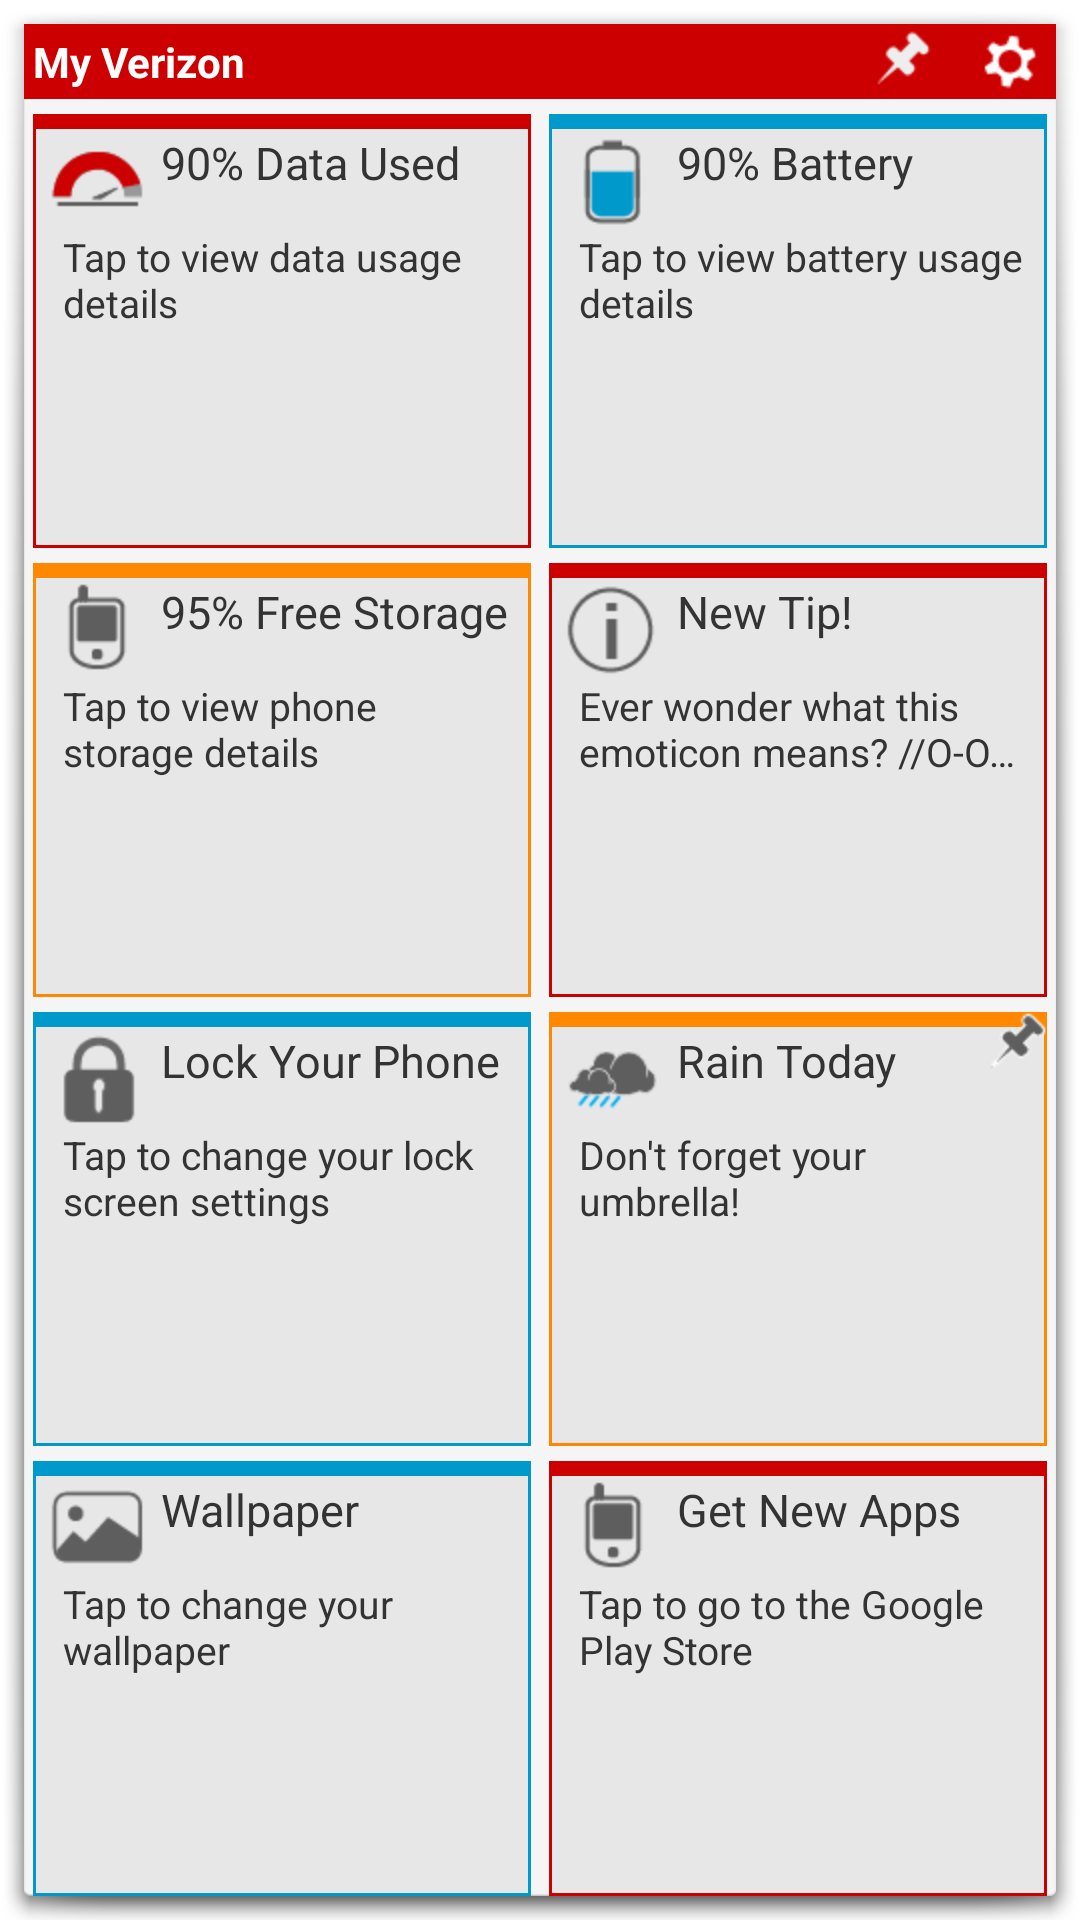

Icon bounding boxes for this 1080px×1920px phone screenshot, format (x1, y1, x2, y2):
battery good: (549, 114, 638, 206)
